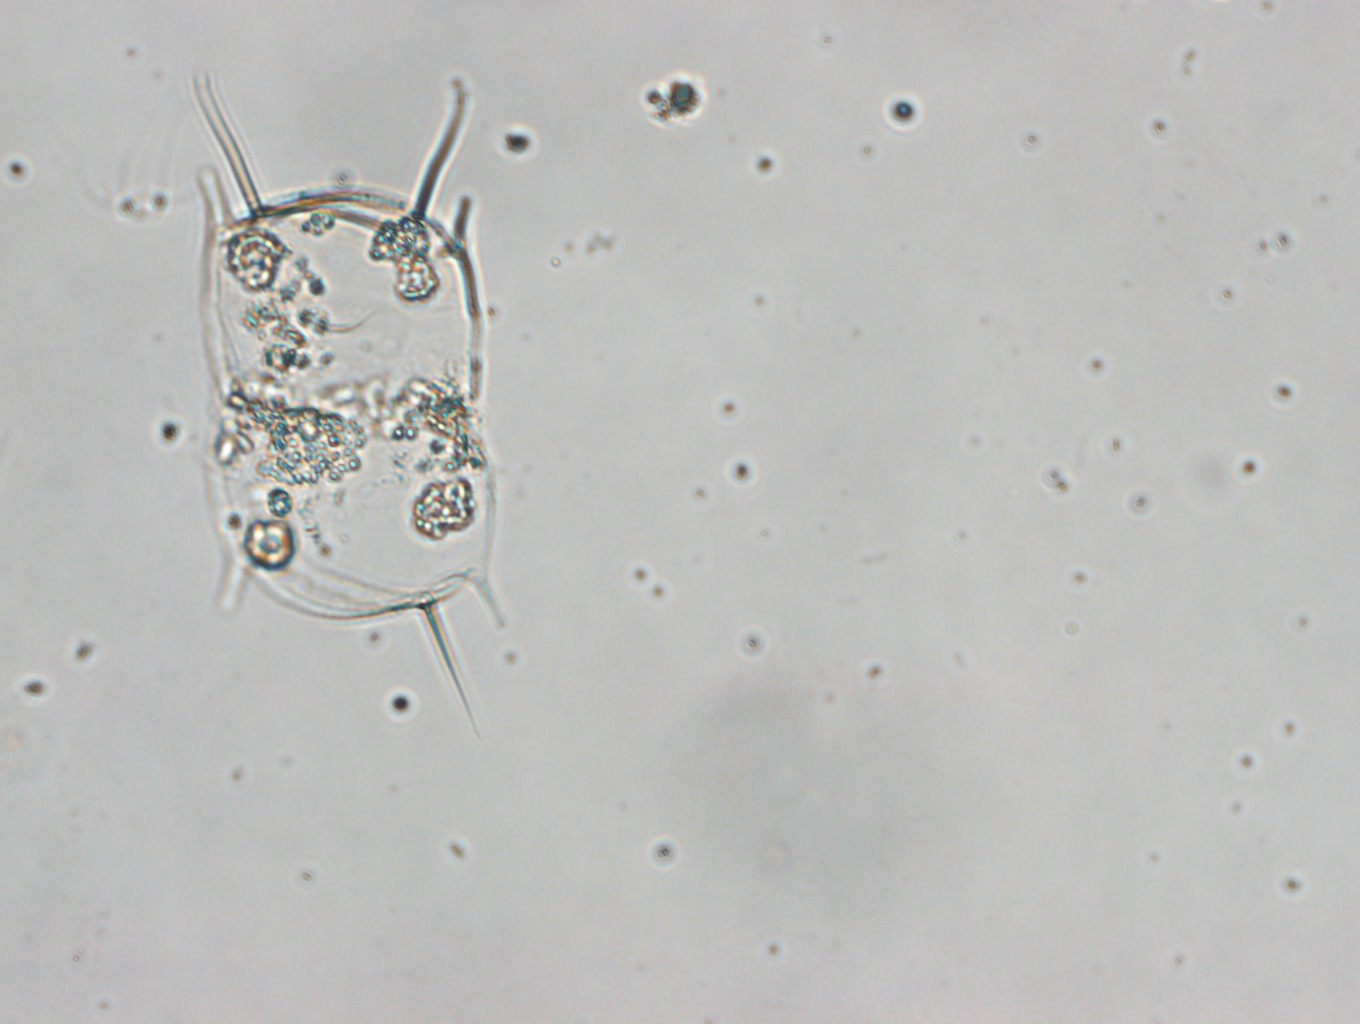biddulphia: (192, 76, 507, 737)
